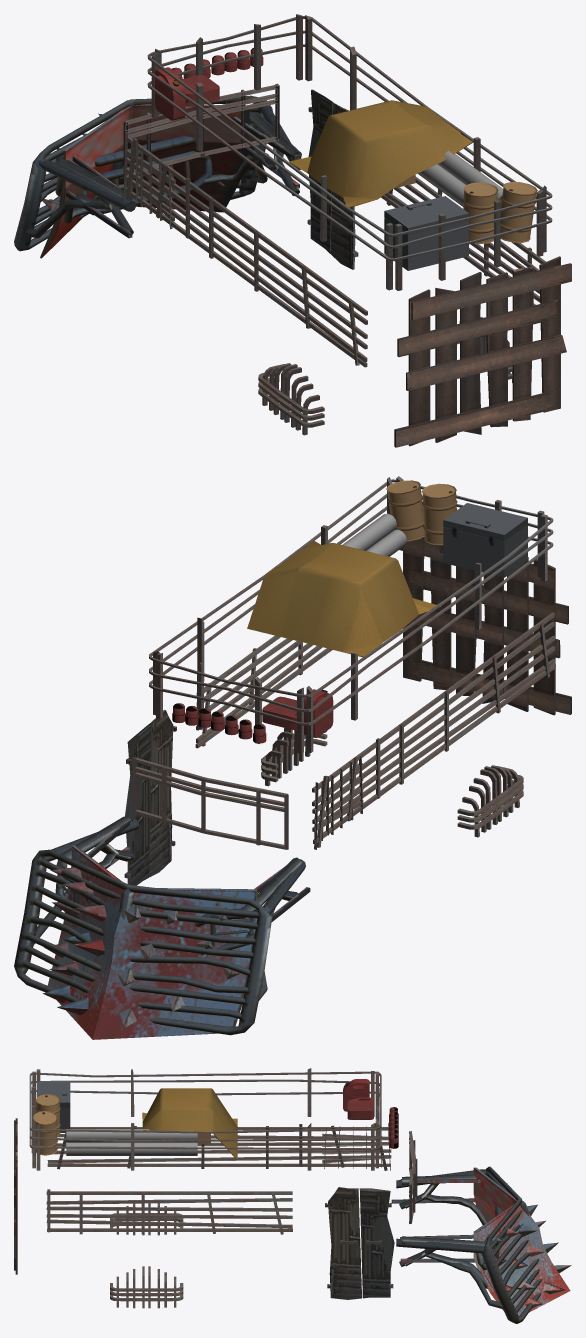
Rendered from ATA_Bus_parts.fbx.
3 renders of one model, top to bottom at view 1: azimuth 30°, elevation 25°; view 2: azimuth 150°, elevation 25°; view 3: azimuth 270°, elevation 25°, orthographic. The views are drawn at different scales.
Parts seen in each view (by area): view 1: Door protection.007, fench.005, tent.005, Window protection.008, KengurOld, Kengur.B, Kengur, box.005, Door protection.005, Window protection.005, Wheel protection.005, Window protection.006 (+8 smaller); view 2: KengurOld, Kengur.B, Door protection.007, tent.005, fench.005, Window protection.008, Door protection.005, box.005, Wheel protection.005, Window protection.005, Window protection.006, Kengur (+7 smaller); view 3: fench.005, Door protection.005, KengurOld, Window protection.006, Kengur.B, Window protection.008, tent.005, Wheel protection.005, Kengur, Pipes, Pipes.002, Window protection.007 (+8 smaller).
Part boxes in pixels (x1,y1,x2,y2): Door protection.007: (394, 256, 571, 447); fench.005: (147, 14, 552, 290); tent.005: (289, 100, 472, 207); Window protection.008: (125, 138, 367, 367); KengurOld: (40, 104, 299, 258); Kengur.B: (14, 95, 300, 251); Kengur: (55, 111, 301, 224); box.005: (384, 196, 468, 270); Door protection.005: (307, 89, 358, 269); Window protection.005: (123, 83, 279, 175); Wheel protection.005: (258, 317, 512, 435); Window protection.006: (381, 173, 545, 305); KengurOld: (43, 818, 310, 1039); Kengur.B: (14, 818, 305, 1035); Door protection.007: (399, 537, 571, 715); tent.005: (247, 540, 440, 657); fench.005: (149, 476, 553, 753); Window protection.008: (313, 612, 555, 847); Door protection.005: (124, 710, 176, 885); box.005: (443, 503, 527, 577); Wheel protection.005: (261, 728, 523, 837); Window protection.005: (132, 757, 288, 849); Window protection.006: (195, 635, 332, 748); Kengur: (55, 816, 301, 949); fench.005: (29, 1068, 381, 1170); Door protection.005: (325, 1187, 394, 1299); KengurOld: (391, 1167, 571, 1316); Window protection.006: (46, 1189, 292, 1234); Kengur.B: (396, 1166, 542, 1323); Window protection.008: (47, 1123, 390, 1170); tent.005: (142, 1088, 237, 1160); Wheel protection.005: (110, 1203, 183, 1308); Kengur: (402, 1174, 502, 1288); Pipes: (66, 1142, 197, 1155); Pipes.002: (66, 1129, 197, 1142); Window protection.007: (322, 1123, 391, 1170).
Size of the model in its own units: 130 by 144 by 369.
